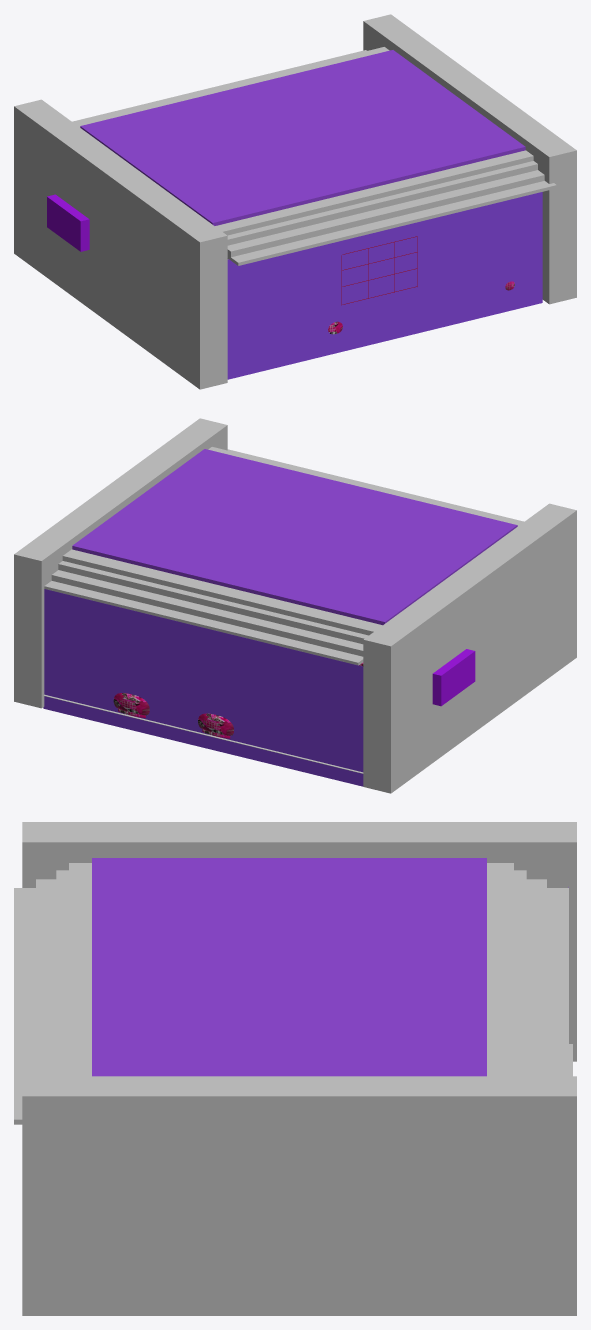
The model's file is 作品集4场景2.fbx.
3 views of the same model, one above another, from view 1: azimuth 30°, elevation 25°; view 2: azimuth 150°, elevation 25°; view 3: azimuth 270°, elevation 25° (orthographic). The views are drawn at different scales.
Parts seen in each view (by area): view 1: 立方体.014, 立方体.003, 立方体.062, 立方体.001, 立方体.010, 立方体.006, 立方体.013, 立方体.009, 立方体.012, 立方体.049, 立方体.007, 立方体.035; view 2: 立方体.014, 立方体.005, 立方体.062, 立方体.001, 立方体.012, 立方体.008, 立方体.007, 立方体.011, 立方体.049, 立方体.006, 立方体.002, 后沙发2 (+2 smaller); view 3: 立方体.001, 立方体.014, 立方体.062, 立方体.012, 立方体.006, 立方体.013, 立方体.007, 立方体.008, 立方体.010, 立方体.009, 立方体.011.
Boxes of the visible parts, box(x1,y1,x2,y2) form: 立方体.014: box(80, 50, 525, 225); 立方体.003: box(227, 192, 542, 379); 立方体.062: box(14, 99, 227, 389); 立方体.001: box(363, 14, 576, 304); 立方体.010: box(227, 170, 544, 257); 立方体.006: box(215, 150, 533, 235); 立方体.013: box(227, 181, 556, 265); 立方体.009: box(227, 161, 537, 245); 立方体.012: box(73, 47, 389, 127); 立方体.049: box(47, 194, 89, 251); 立方体.007: box(72, 50, 366, 122); 立方体.035: box(341, 236, 417, 305); 立方体.014: box(72, 449, 517, 625); 立方体.005: box(43, 589, 363, 786); 立方体.062: box(363, 503, 576, 793); 立方体.001: box(14, 418, 227, 708); 立方体.012: box(62, 549, 382, 635); 立方体.008: box(51, 570, 363, 656); 立方体.007: box(44, 581, 363, 665); 立方体.011: box(58, 561, 368, 644); 立方体.049: box(432, 649, 475, 706); 立方体.006: box(208, 447, 522, 526); 立方体.002: box(43, 694, 363, 773); 后沙发2: box(198, 713, 233, 738); 立方体.001: box(22, 1076, 576, 1315); 立方体.014: box(92, 858, 486, 1076); 立方体.062: box(22, 822, 576, 1061); 立方体.012: box(487, 863, 513, 1076); 立方体.006: box(69, 863, 91, 1076); 立方体.013: box(14, 888, 35, 1124); 立方体.007: box(547, 888, 568, 1076); 立方体.008: box(526, 879, 546, 1076); 立方体.010: box(36, 879, 56, 1076); 立方体.009: box(56, 870, 68, 1076); 立方体.011: box(514, 870, 526, 1076).
Size of the model in its own units: 77354 by 28682 by 65583.
